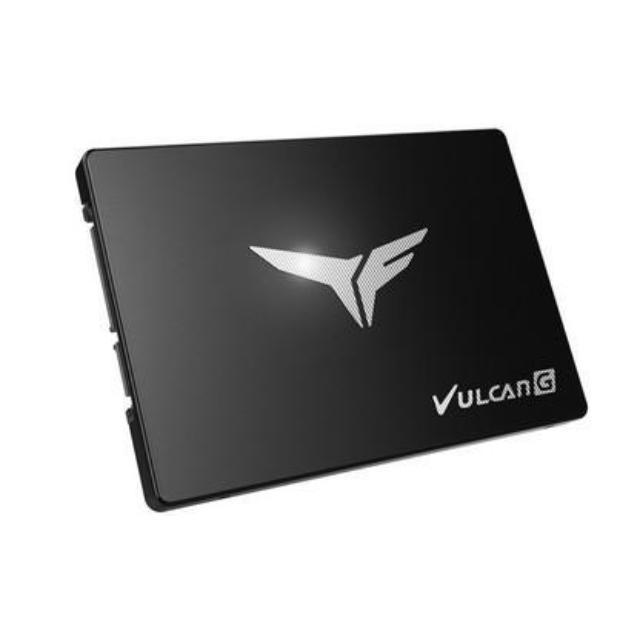DISK: (65, 124, 590, 518)
